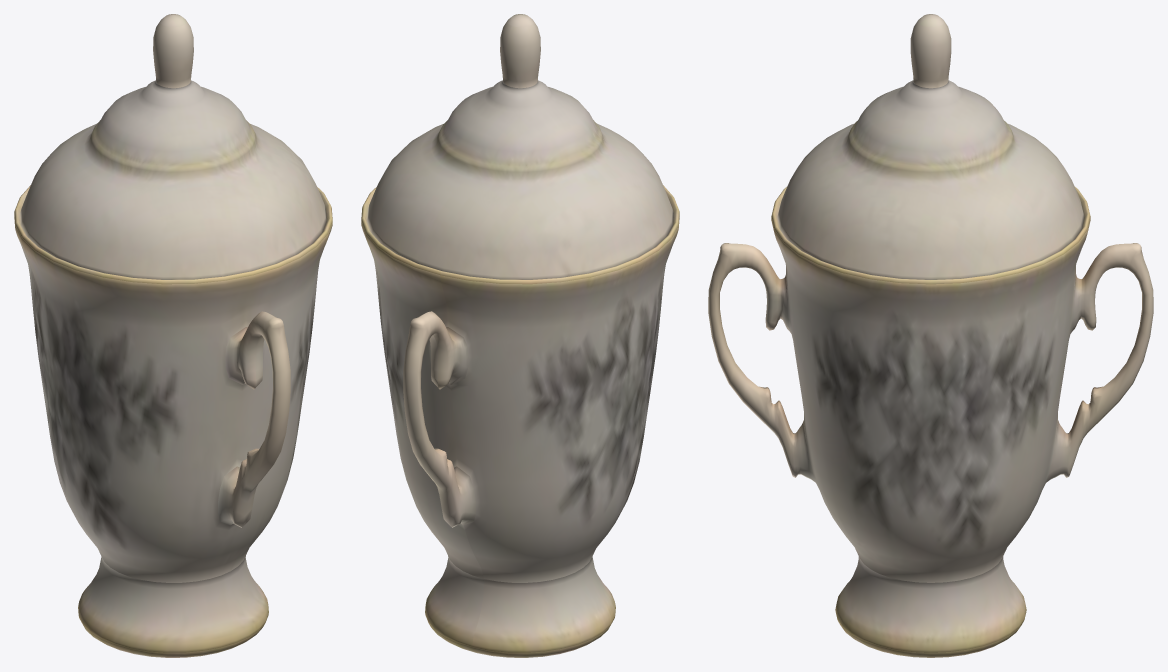
The model's file is sugar_bowl.glb.
3 views of the same model, side by side, from view 1: azimuth 30°, elevation 25°; view 2: azimuth 150°, elevation 25°; view 3: azimuth 270°, elevation 25° (orthographic).
Visible parts, largest first — view 1: tea_set_01_sugar_cup_01.001, tea_set_01_sugar_cup_01_lid.001; view 2: tea_set_01_sugar_cup_01.001, tea_set_01_sugar_cup_01_lid.001; view 3: tea_set_01_sugar_cup_01.001, tea_set_01_sugar_cup_01_lid.001.
Part boxes in pixels (x1,y1,x2,y2): tea_set_01_sugar_cup_01.001: [14, 185, 332, 657]; tea_set_01_sugar_cup_01_lid.001: [20, 14, 326, 279]; tea_set_01_sugar_cup_01.001: [361, 185, 679, 657]; tea_set_01_sugar_cup_01_lid.001: [367, 14, 673, 279]; tea_set_01_sugar_cup_01.001: [708, 186, 1153, 657]; tea_set_01_sugar_cup_01_lid.001: [777, 14, 1084, 279].
Size of the model in its own units: 2.35 by 4.93 by 3.28.
1 material, 1 textured.
